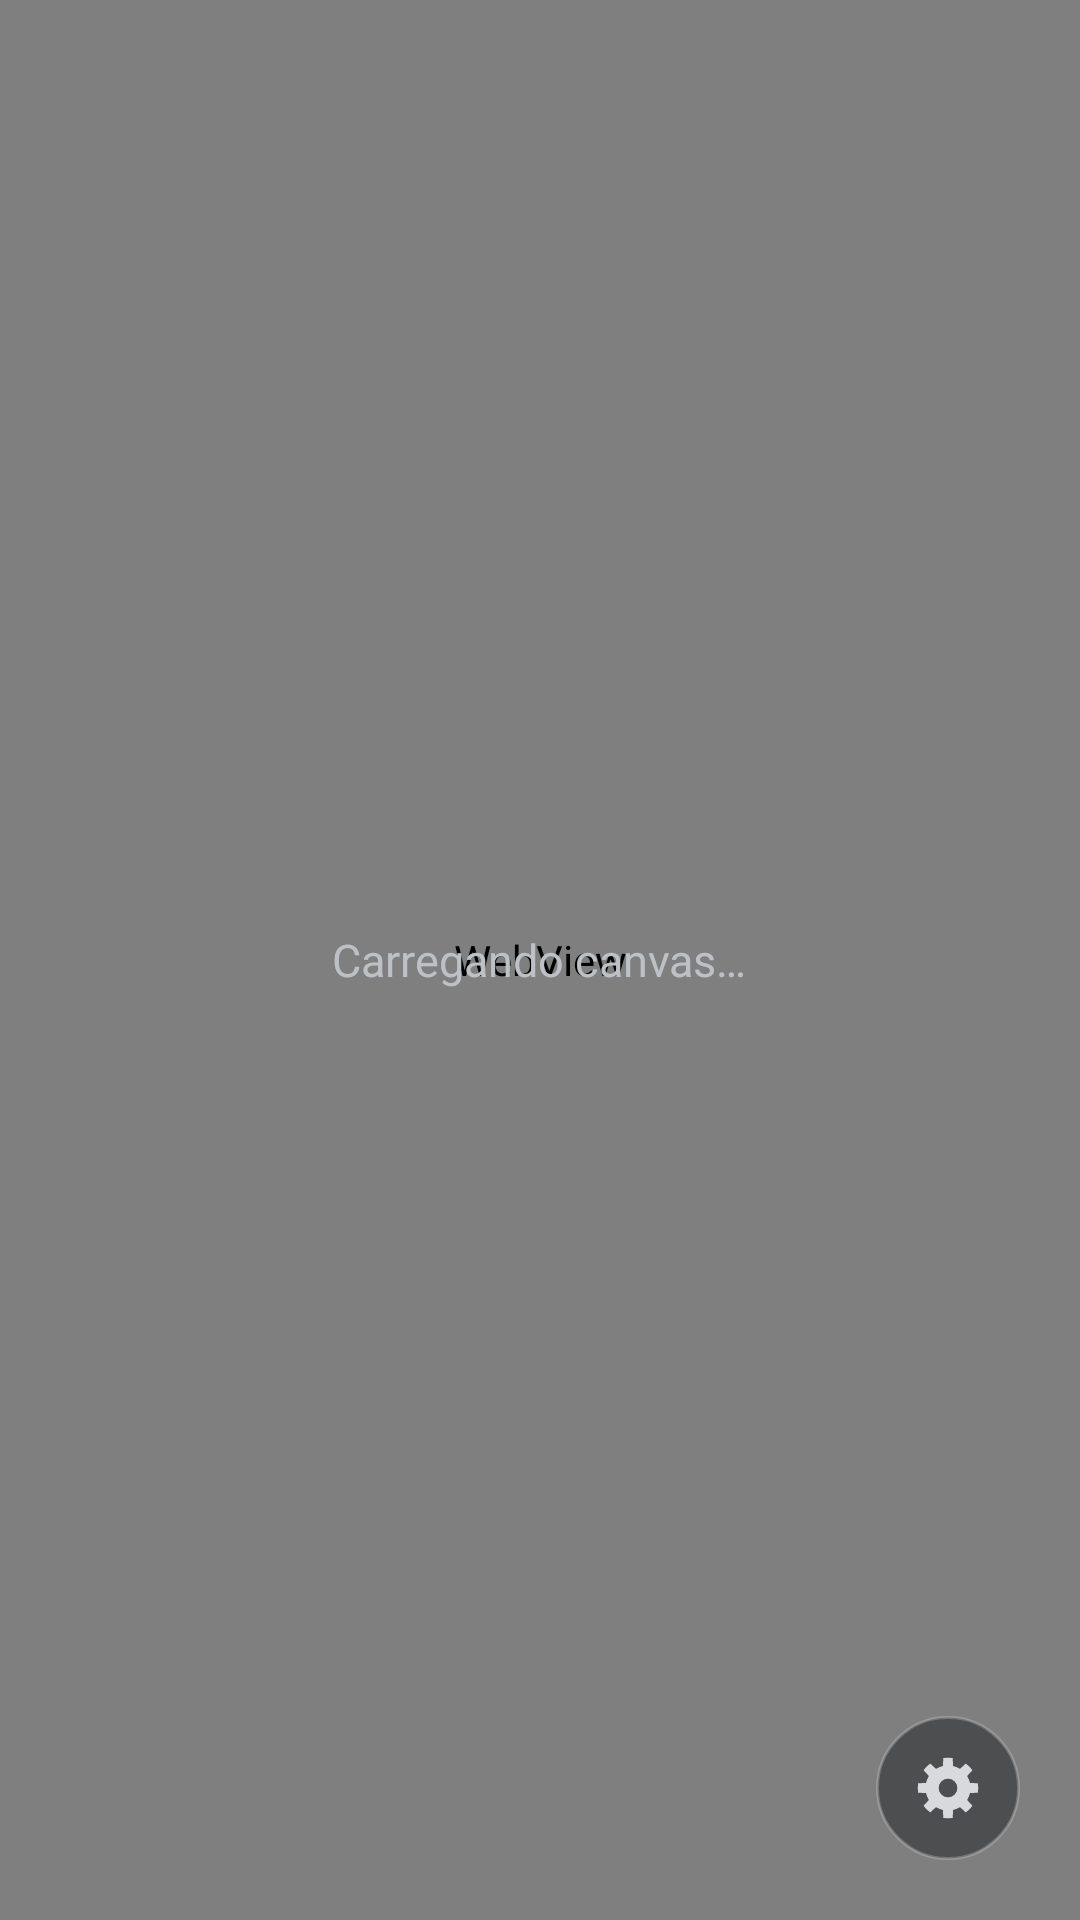

Icon bounding boxes for this 1080px×1920px phone screenshot, format (x1, y1, x2, y2):
Configurar coletor: (876, 1716, 1020, 1860)
